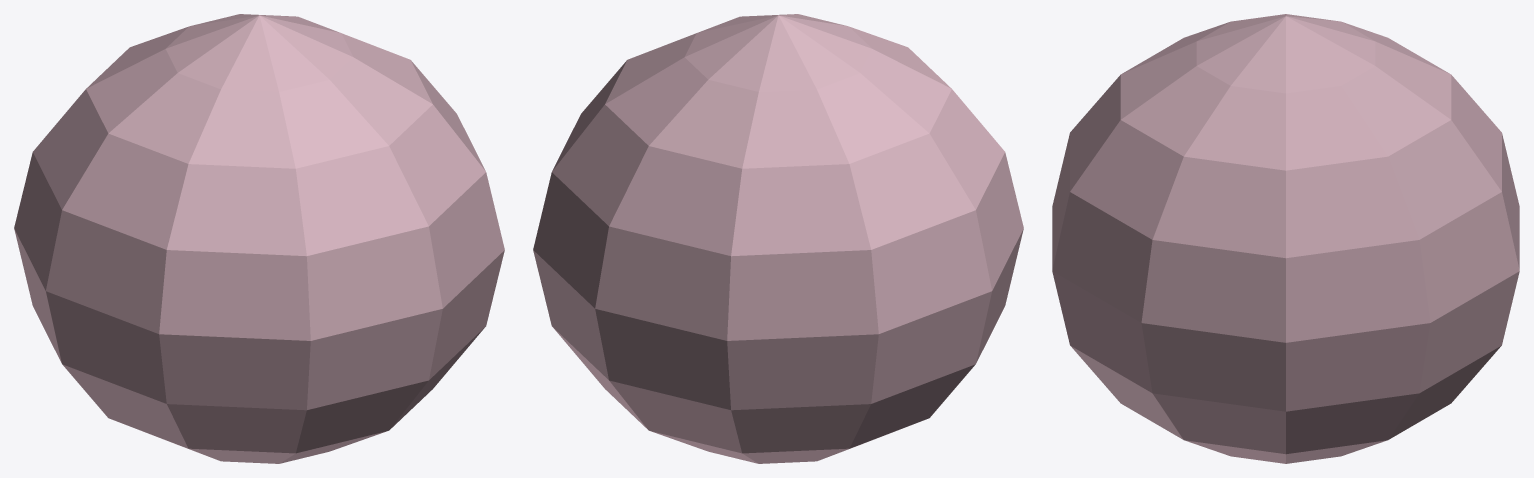
Rendered from sphere_leaf_pink.gltf.
The picture shows the model from 3 angles, left to right: view 1: azimuth 30°, elevation 25°; view 2: azimuth 150°, elevation 25°; view 3: azimuth 270°, elevation 25°; orthographic projection.
Visible parts, largest first — view 1: mesh; view 2: mesh; view 3: mesh.
Boxes of the visible parts, x1,y1,x2,y2 form: mesh: (14, 14, 504, 463); mesh: (533, 14, 1023, 463); mesh: (1052, 14, 1519, 463).
Bounding box in the file's own units: 1.7 × 1.7 × 1.62.
